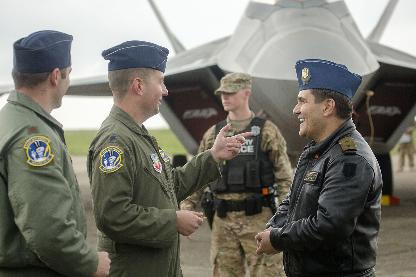F18: (0, 0, 416, 195)
